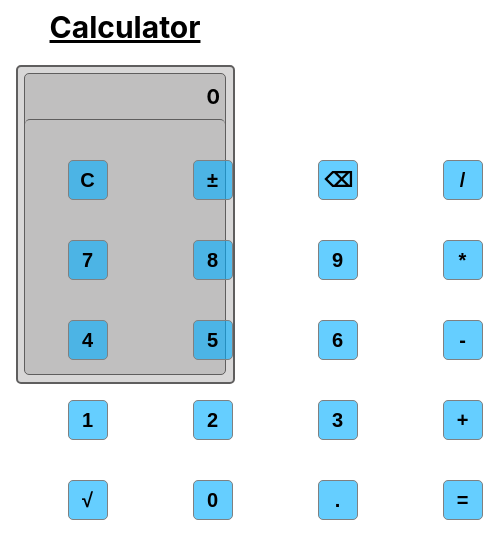
Test case: Calculator Page › clear button resets calculator
The width and height of the screenshot is (500, 537).
Click the button "4" at {"x": 88, "y": 340}, box [68,320,108,360]
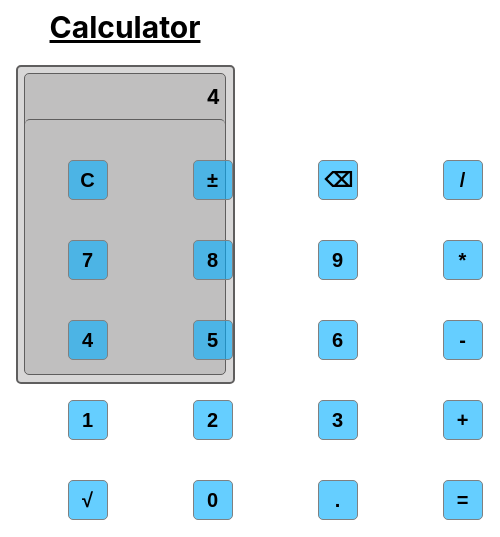
Click the button with test id "clear-button" at {"x": 88, "y": 180}, box [68,160,108,200]
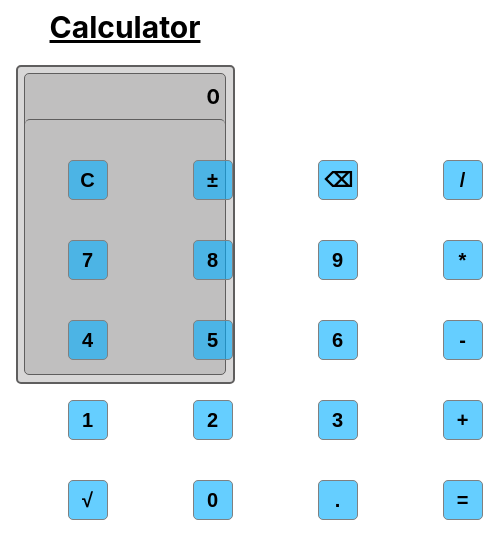
Expected: the text "0" is shown, [206,85,220,109]
